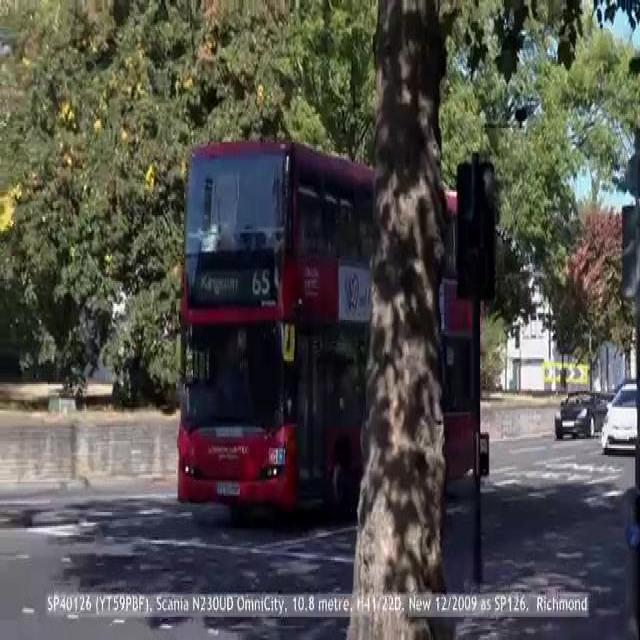motorcycle: (182, 135, 485, 525)
